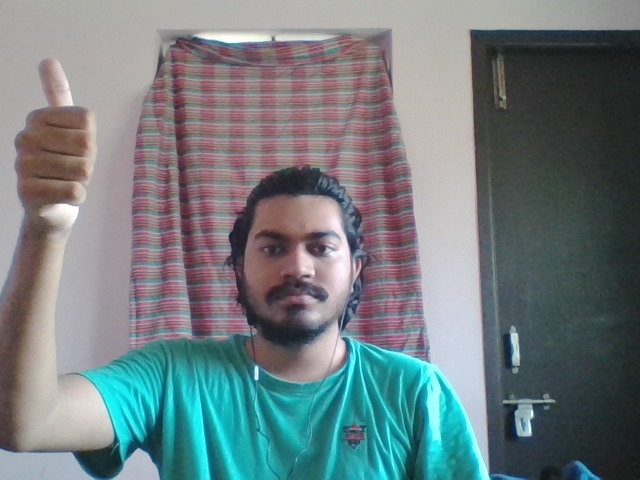ThumbsUp: (14, 59, 98, 233)
